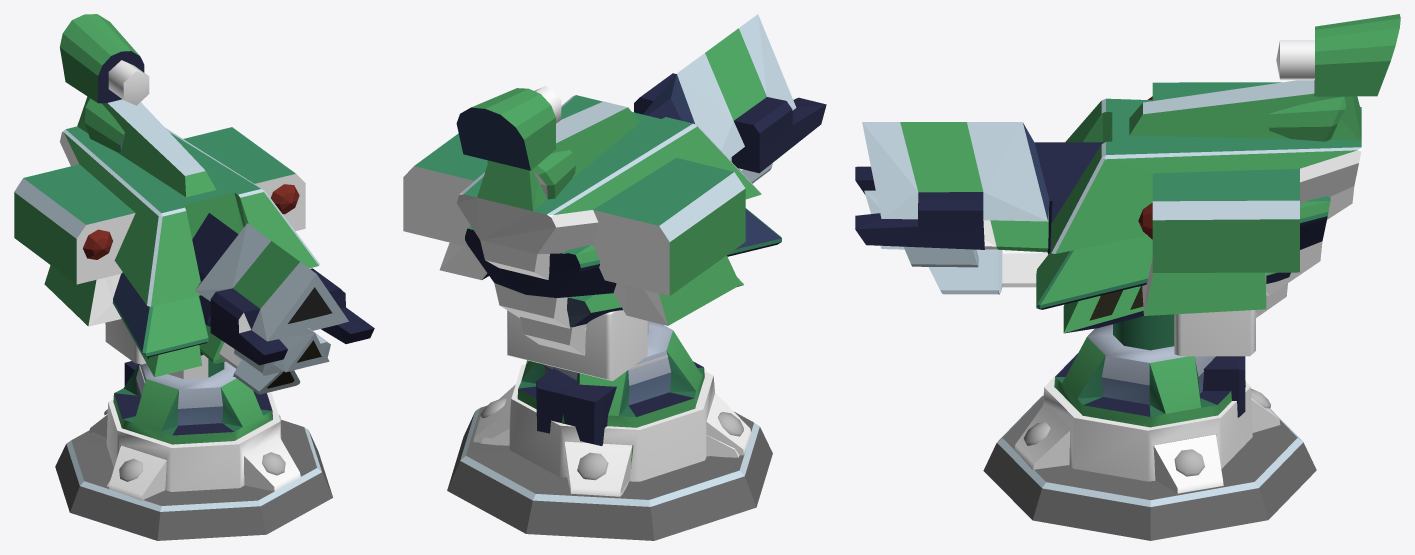
Rendered from lasertower (1).fbx.
3 renders of one model, left to right at view 1: azimuth 30°, elevation 25°; view 2: azimuth 150°, elevation 25°; view 3: azimuth 270°, elevation 25°, orthographic. The views are drawn at different scales.
Visible parts, largest first — view 1: head_laser_turret3, LaserTower_BASE_L01, LaserTower_BASE_L03, head_laser_turret2, base_turret3, polySurface4, base_turret2; view 2: head_laser_turret3, LaserTower_BASE_L01, LaserTower_BASE_L03, head_laser_turret2, base_turret3, base_turret2, polySurface4, LaserTower_BASE_L02; view 3: head_laser_turret3, LaserTower_BASE_L01, head_laser_turret2, base_turret3, LaserTower_BASE_L03, polySurface4, base_turret2.
Part boxes in pixels (x1,y1,x2,y2): head_laser_turret3: (14,14,374,365); LaserTower_BASE_L01: (55,419,332,540); LaserTower_BASE_L03: (89,392,300,500); head_laser_turret2: (44,98,330,375); base_turret3: (105,319,272,444); polySurface4: (130,325,300,394); base_turret2: (124,354,208,385); head_laser_turret3: (403,14,826,295); LaserTower_BASE_L01: (447,405,772,540); LaserTower_BASE_L03: (473,364,751,496); head_laser_turret2: (439,150,781,330); base_turret3: (507,310,704,427); base_turret2: (536,321,667,445); polySurface4: (520,207,745,355); LaserTower_BASE_L02: (480,410,739,495); head_laser_turret3: (855,14,1400,272); LaserTower_BASE_L01: (983,395,1316,540); head_laser_turret2: (864,96,1345,315); base_turret3: (1054,310,1255,427); LaserTower_BASE_L03: (1014,356,1280,493); polySurface4: (928,249,1290,333); base_turret2: (1202,356,1245,417).
Bounding box in the file's own units: 7.04 × 10.51 × 11.52.
Materials: 2 (1 with a texture image).
